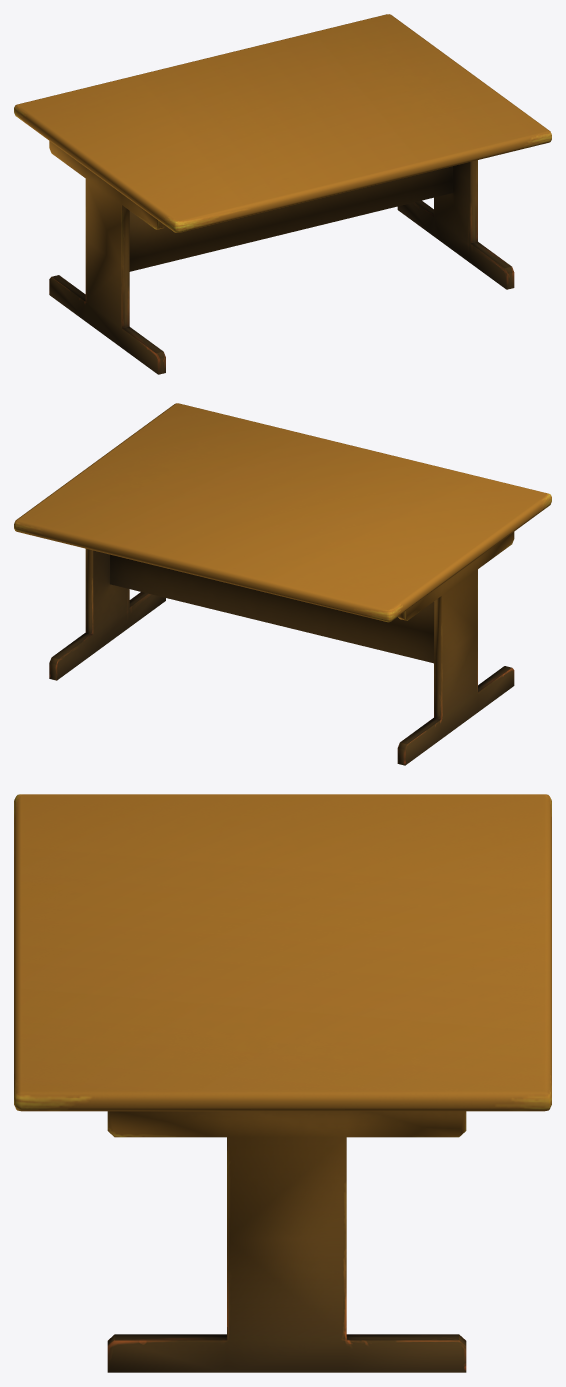
Rendered from Table.fbx.
3 renders of one model, top to bottom at view 1: azimuth 30°, elevation 25°; view 2: azimuth 150°, elevation 25°; view 3: azimuth 270°, elevation 25°, orthographic. The views are drawn at different scales.
Parts seen in each view (by area): view 1: Table; view 2: Table; view 3: Table.
Part boxes in pixels (x1,y1,x2,y2): Table: [14, 14, 551, 374]; Table: [14, 403, 551, 765]; Table: [14, 794, 551, 1372].
Size of the model in its own units: 100 by 44.16 by 75.
